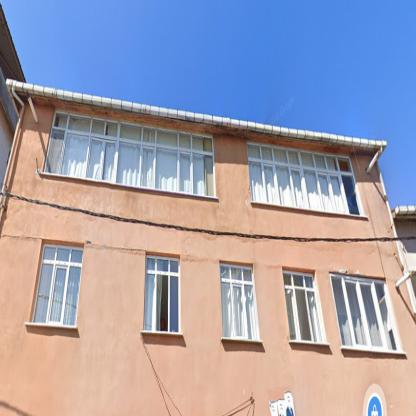window: (44, 112, 215, 196), (247, 144, 360, 215), (331, 274, 398, 350), (33, 245, 83, 326), (219, 264, 257, 338), (283, 273, 323, 343), (144, 256, 179, 332)
